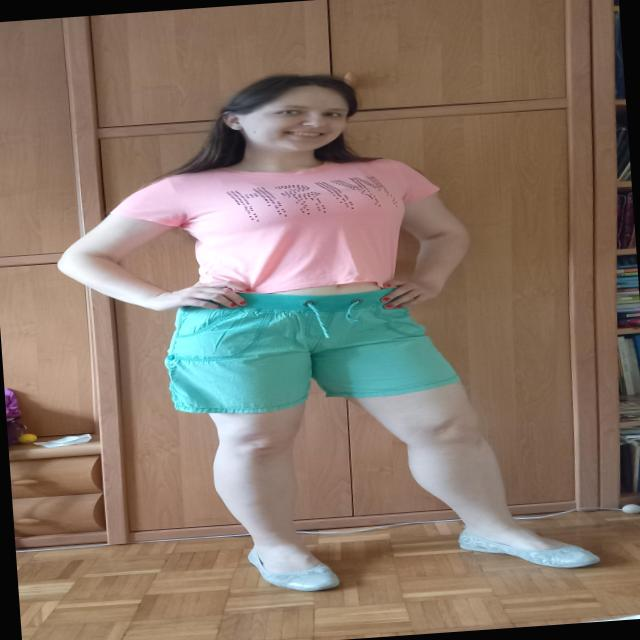Tshirt: (106, 152, 446, 304)
short: (158, 278, 460, 419)
